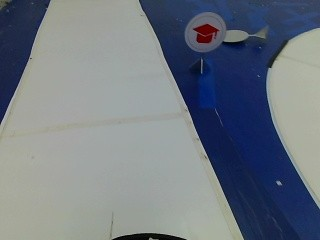school: (182, 11, 226, 54)
